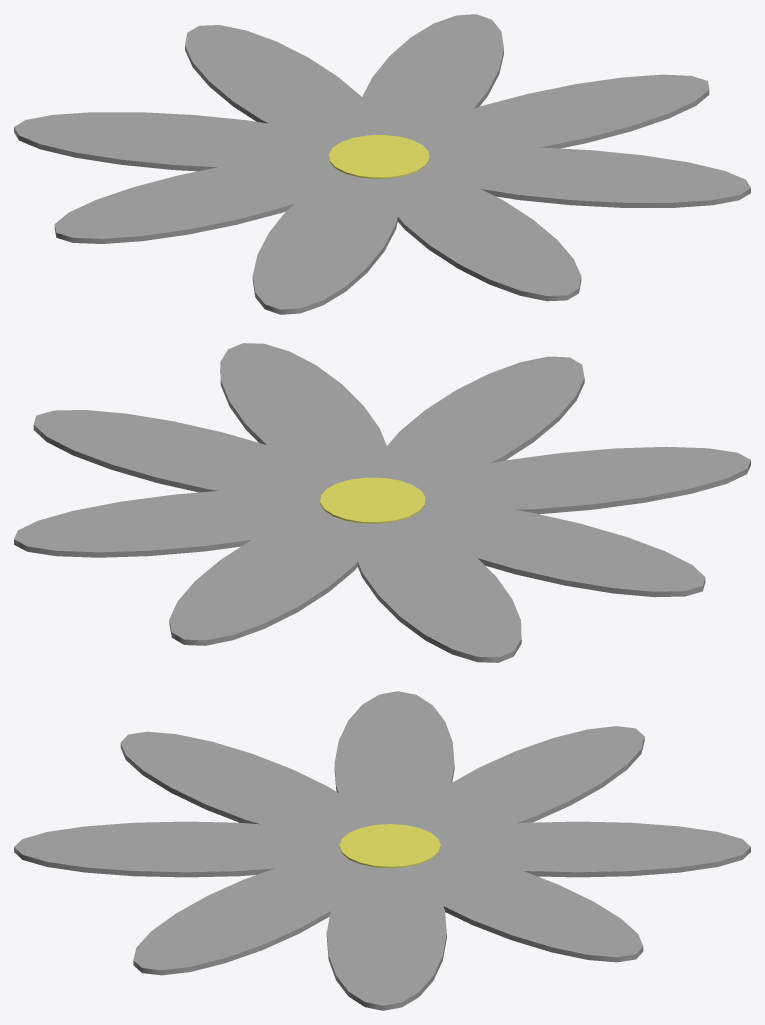
Rendered from Daisy.fbx.
3 views of the same model, one above another, from view 1: azimuth 30°, elevation 25°; view 2: azimuth 150°, elevation 25°; view 3: azimuth 270°, elevation 25° (orthographic). The views are drawn at different scales.
Parts seen in each view (by area): view 1: Daisy; view 2: Daisy; view 3: Daisy.
Boxes of the visible parts, box(x1,y1,x2,y2) form: Daisy: box(14, 14, 750, 314); Daisy: box(14, 343, 750, 662); Daisy: box(14, 691, 750, 1010).
Size of the model in its own units: 41.55 by 0.4292 by 41.14.
